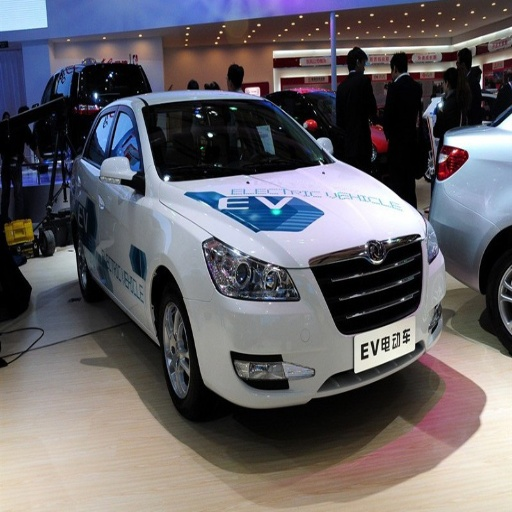front_bumper: (188, 226, 439, 409)
front_right_door: (104, 105, 145, 313)
front_right_light: (202, 238, 299, 300)
